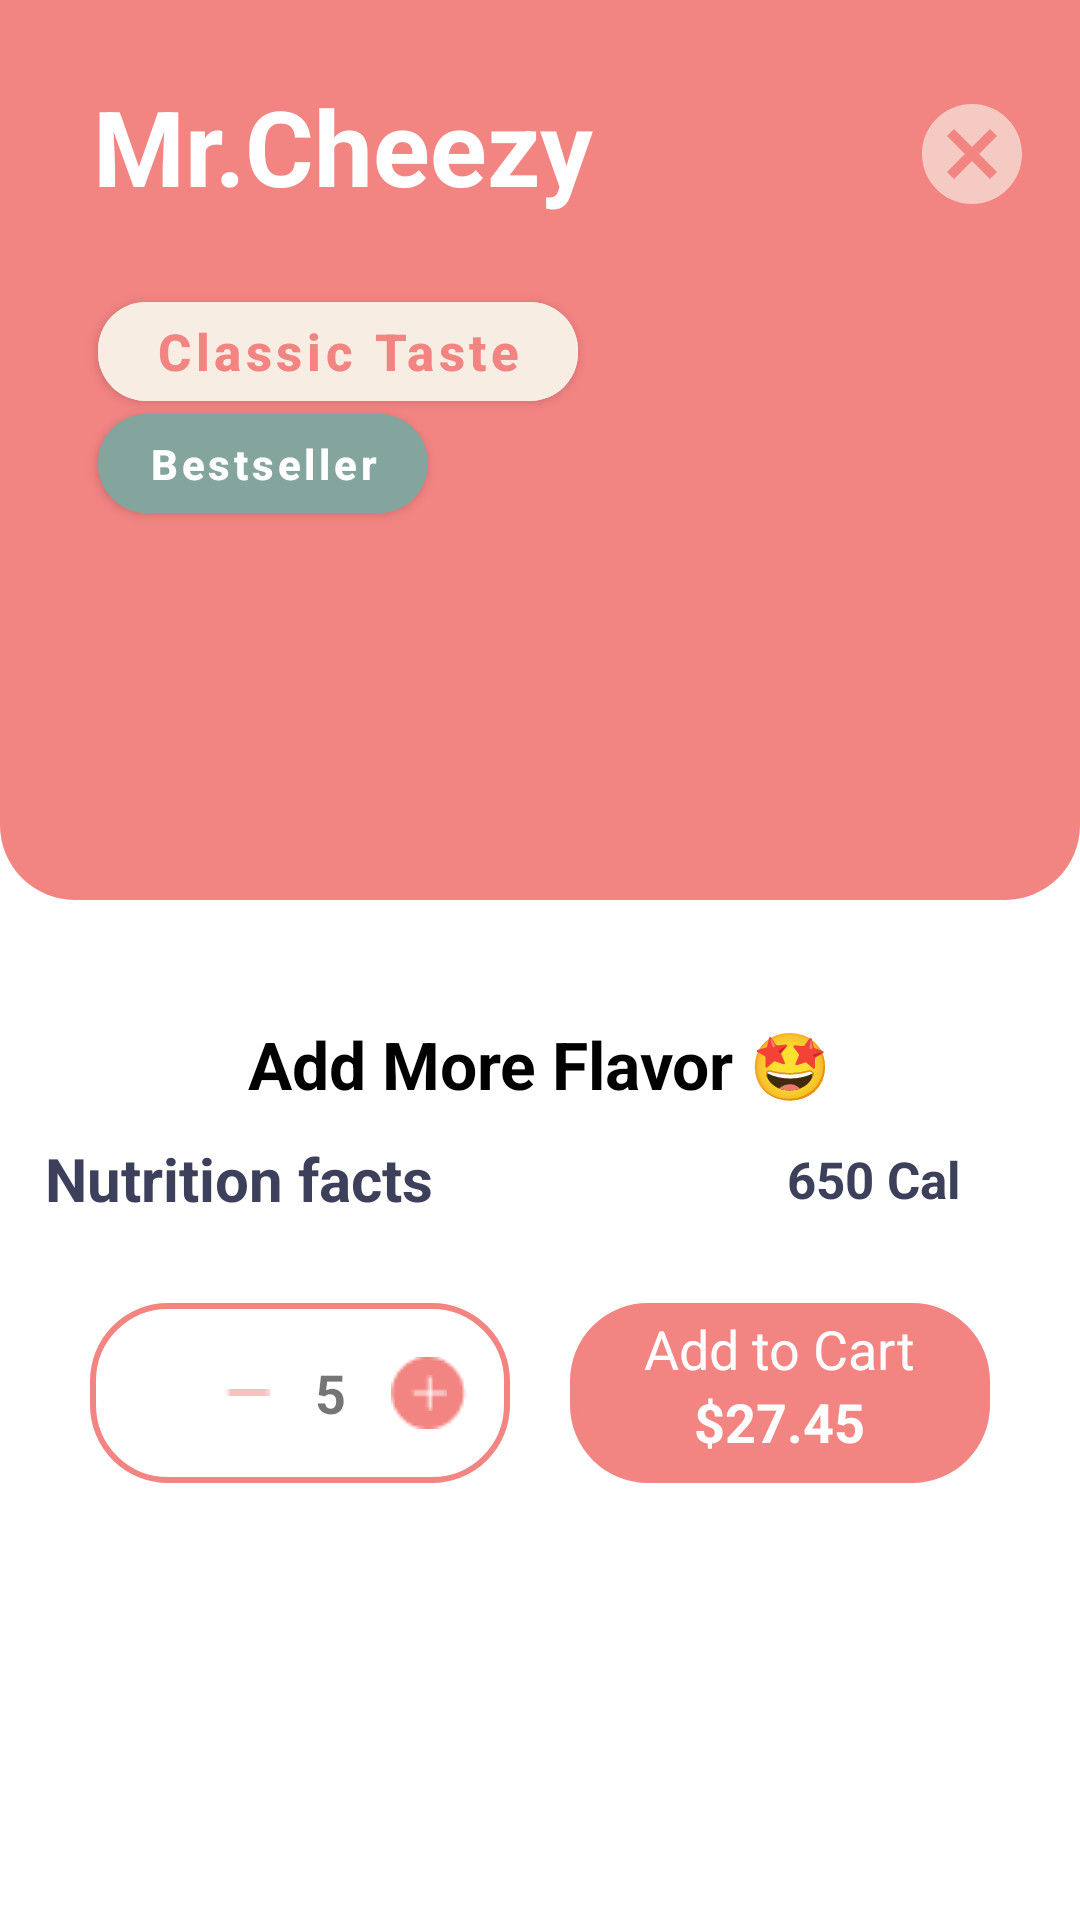

Named icons in this screenshot (1080×1920) and their centers, [x,y]:
cancel: [972,154]
minus: [249,1392]
plus: [428,1393]
